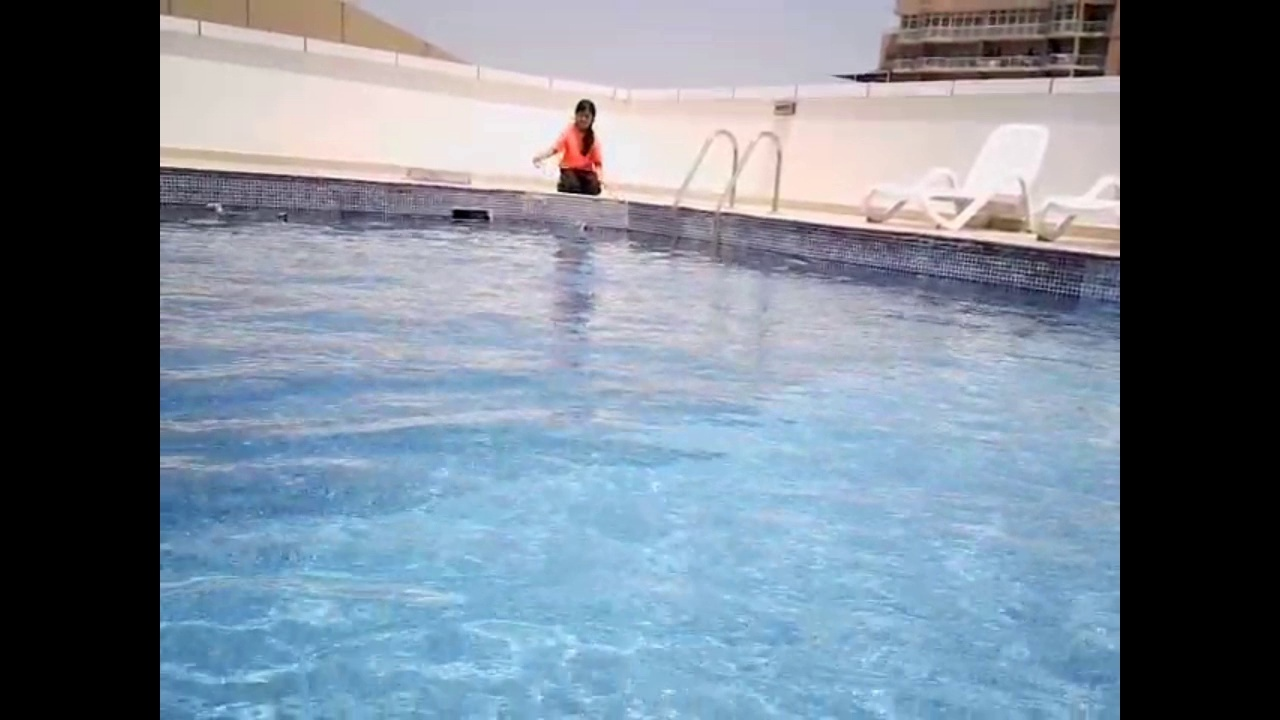debris: (203, 199, 227, 219), (273, 210, 292, 224), (576, 220, 593, 233)
